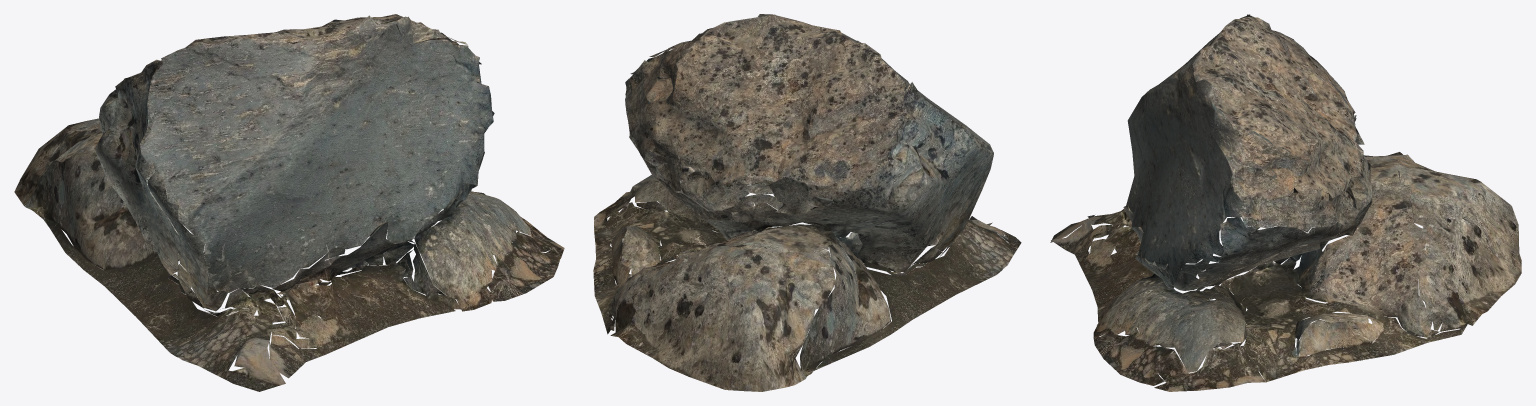
The model's file is basalt2.glb.
The picture shows the model from 3 angles, left to right: view 1: azimuth 30°, elevation 25°; view 2: azimuth 150°, elevation 25°; view 3: azimuth 270°, elevation 25°; orthographic projection. The views are drawn at different scales.
Visible parts, largest first — view 1: Basalt Rock Volcanic PBR Scan E; view 2: Basalt Rock Volcanic PBR Scan E; view 3: Basalt Rock Volcanic PBR Scan E.
Boxes of the visible parts, x1=… form: Basalt Rock Volcanic PBR Scan E: x1=14, y1=14, x2=564, y2=391; Basalt Rock Volcanic PBR Scan E: x1=593, y1=14, x2=1021, y2=391; Basalt Rock Volcanic PBR Scan E: x1=1050, y1=14, x2=1521, y2=391.
Size of the model in its own units: 3.39 by 2.12 by 3.75.
Materials: 1 (1 with a texture image).
